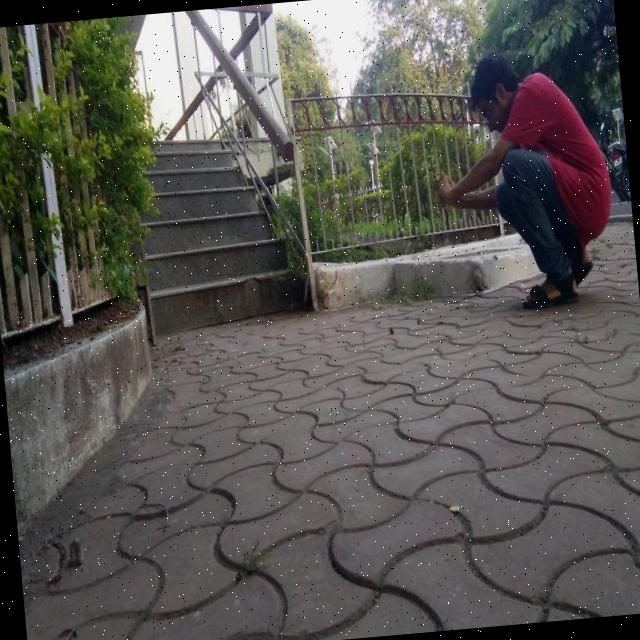stairs: (124, 126, 303, 340)
